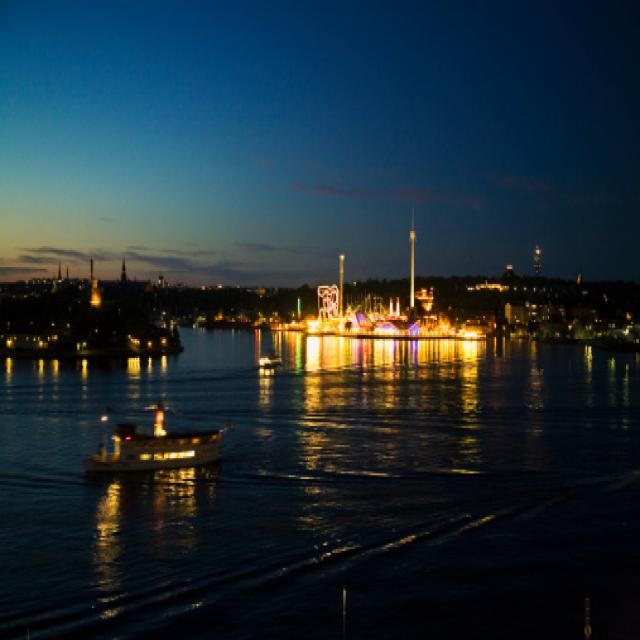Boat: (75, 413, 243, 502)
